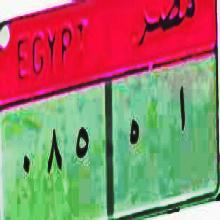0: (20, 149, 33, 188)
5: (74, 121, 89, 170)
8: (44, 122, 63, 188)
alif: (175, 80, 189, 138)
haa: (125, 106, 143, 162)
